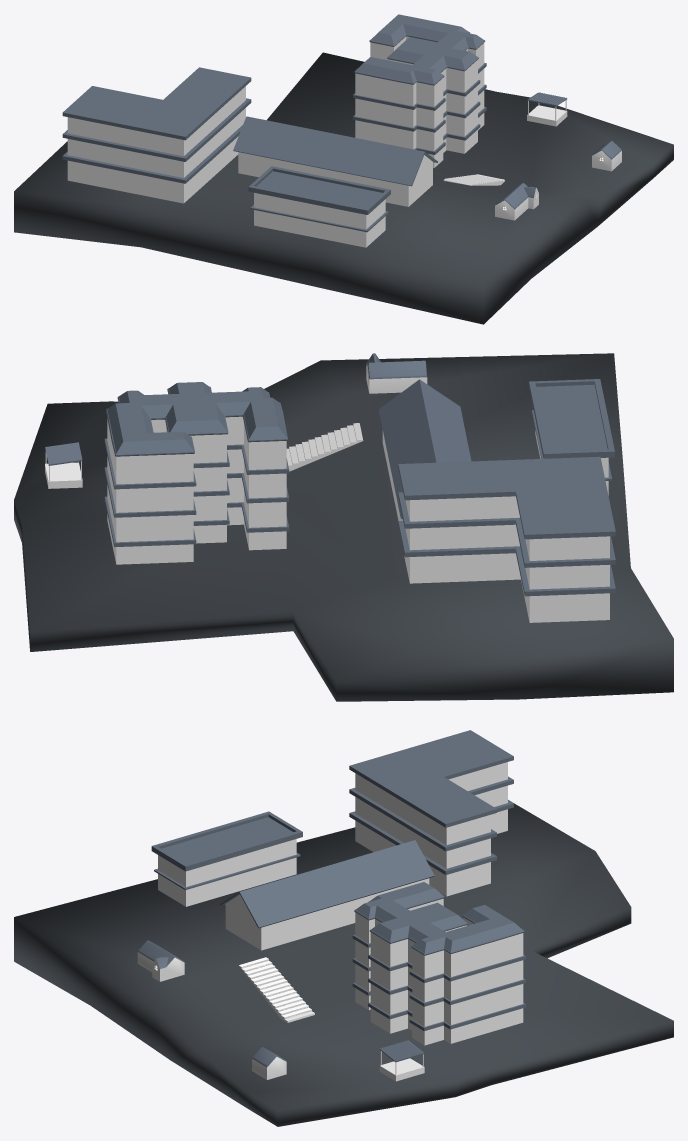
The model's file is sctce.glb.
3 renders of one model, top to bottom at view 1: azimuth 30°, elevation 25°; view 2: azimuth 150°, elevation 25°; view 3: azimuth 270°, elevation 25°, orthographic. The views are drawn at different scales.
Visible parts, largest first — view 1: ground, ccf, campus, mechlab, embedded, cgpu, auditorium, postoffice, cultsteps; view 2: ground, campus, ccf, mechlab, embedded, cgpu, cultsteps, auditorium; view 3: ground, campus, ccf, mechlab, embedded, cultsteps, auditorium, cgpu, postoffice.
Part boxes in pixels (bbox=[...]): ground: bbox=[14, 52, 673, 324]; ccf: bbox=[62, 67, 251, 203]; campus: bbox=[353, 14, 486, 167]; mechlab: bbox=[233, 116, 437, 206]; embedded: bbox=[248, 166, 390, 247]; cgpu: bbox=[495, 183, 538, 220]; auditorium: bbox=[527, 92, 567, 126]; postoffice: bbox=[592, 140, 621, 171]; cultsteps: bbox=[443, 174, 504, 185]; ground: bbox=[14, 353, 673, 701]; campus: bbox=[104, 382, 289, 564]; ccf: bbox=[398, 456, 615, 622]; mechlab: bbox=[378, 379, 471, 520]; embedded: bbox=[529, 379, 614, 495]; cgpu: bbox=[366, 353, 427, 393]; cultsteps: bbox=[286, 423, 363, 471]; auditorium: bbox=[45, 442, 82, 488]; ground: bbox=[14, 800, 673, 1126]; campus: bbox=[352, 882, 525, 1045]; ccf: bbox=[349, 730, 513, 896]; mechlab: bbox=[220, 840, 434, 950]; embedded: bbox=[151, 811, 302, 906]; cultsteps: bbox=[239, 957, 314, 1022]; auditorium: bbox=[379, 1040, 424, 1081]; cgpu: bbox=[137, 940, 184, 981]; postoffice: bbox=[252, 1047, 286, 1079].
Size of the model in its own units: 0.1685 by 0.0311 by 0.1556.
